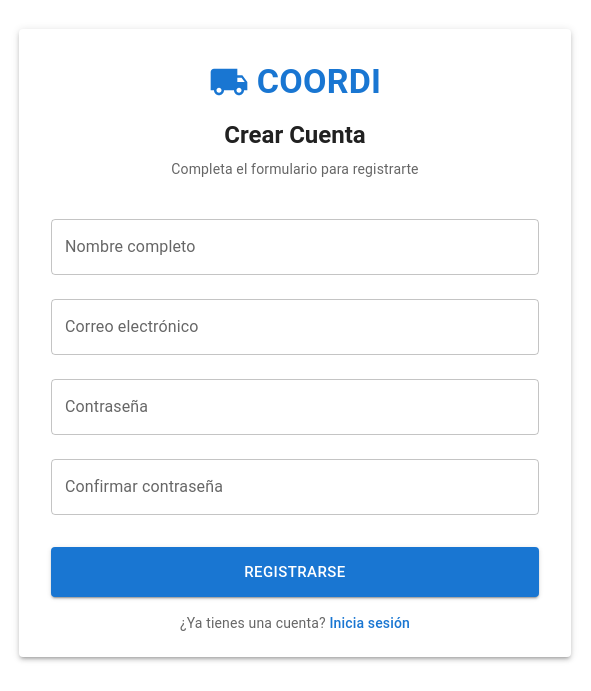
RegisterForm › should show error when passwords do not match
In the field labelled "Nombre completo": (295, 247) [51,219,539,275], type "Test User"
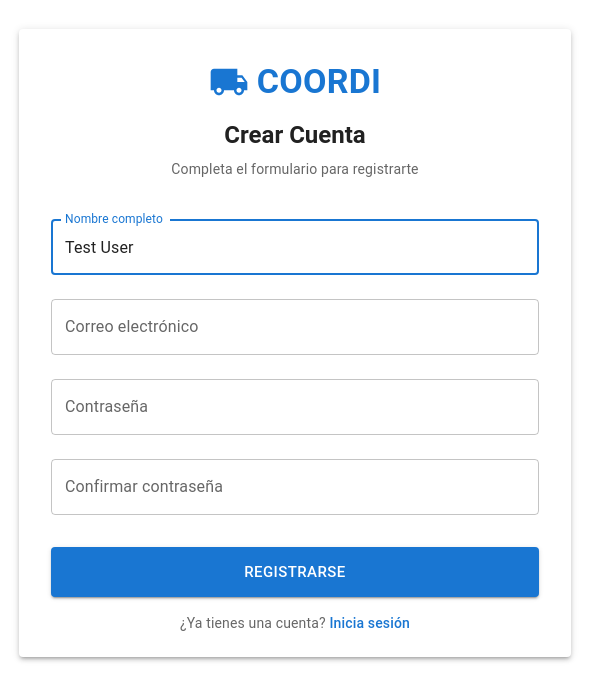
In the field labelled "Correo electrónico": (295, 327) [51,299,539,355], type "test@example.com"
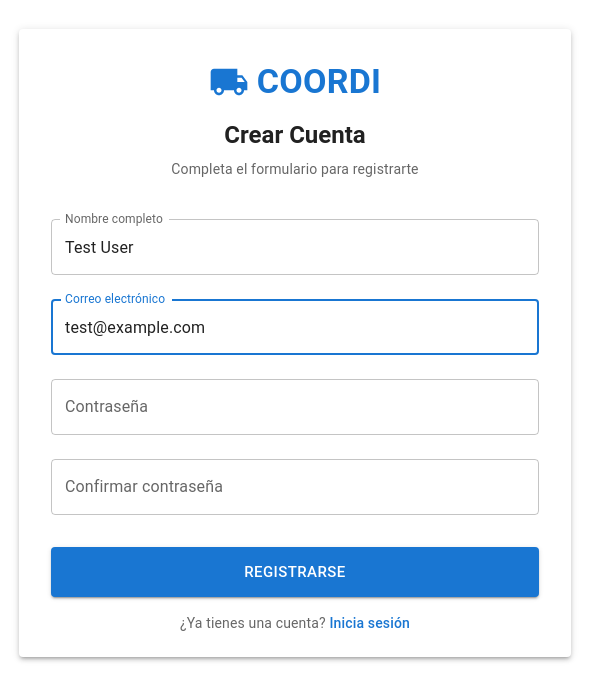
In the password field labelled "Contraseña": (295, 407) [51,379,539,435], type "password123"
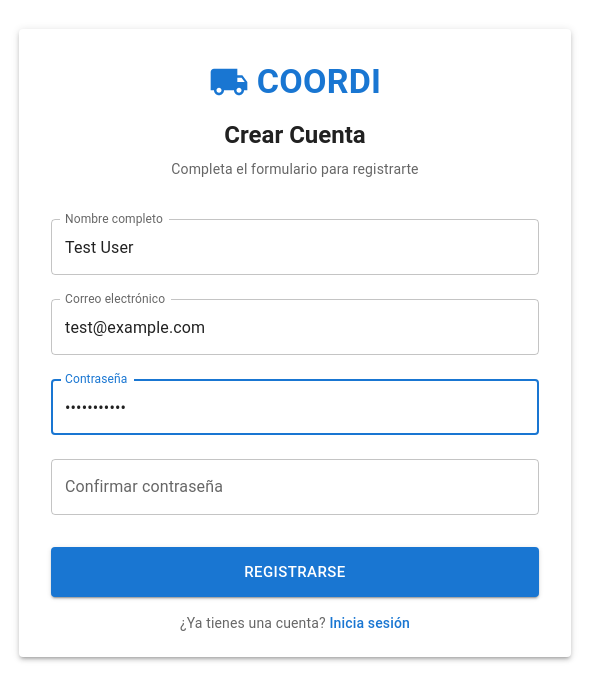
In the password field labelled "Confirmar contraseña": (295, 487) [51,459,539,515], type "different123"
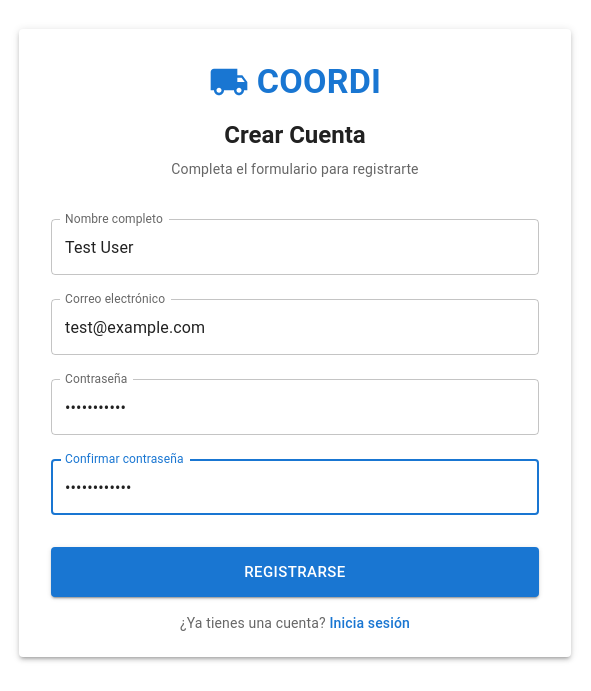
Click the button "Registrarse": (295, 572) [51,547,539,597]
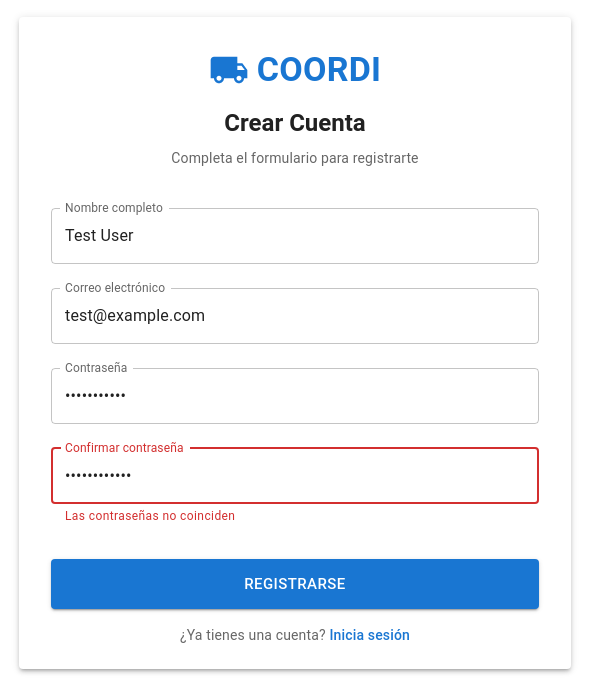
Now the text "Las contraseñas no coinciden" is shown, box [65,509,235,523]
